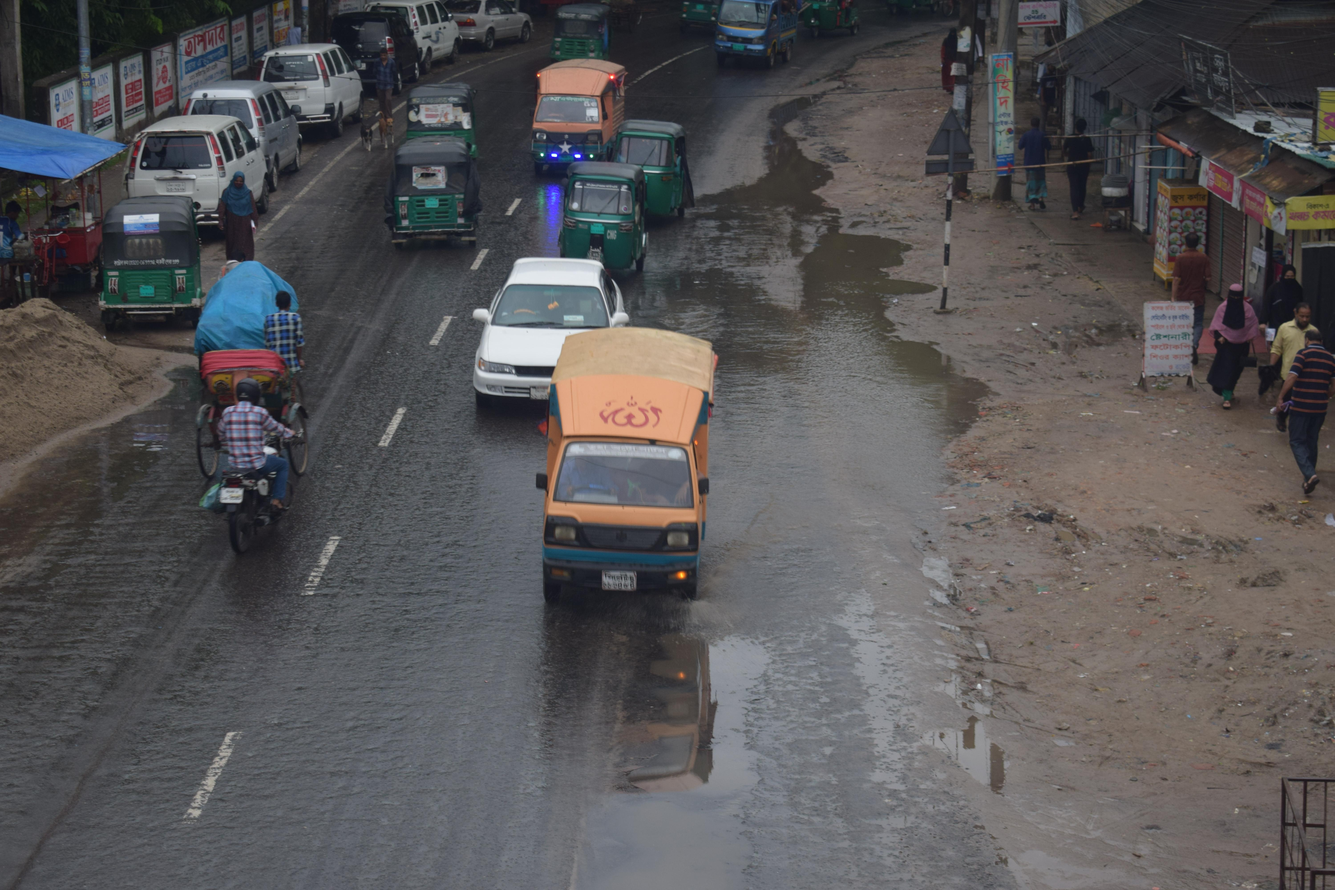Bike: (178, 373, 313, 573)
Car: (516, 305, 744, 635), (448, 241, 640, 417), (106, 108, 282, 232), (515, 43, 624, 192), (259, 22, 384, 146), (378, 0, 471, 68)
